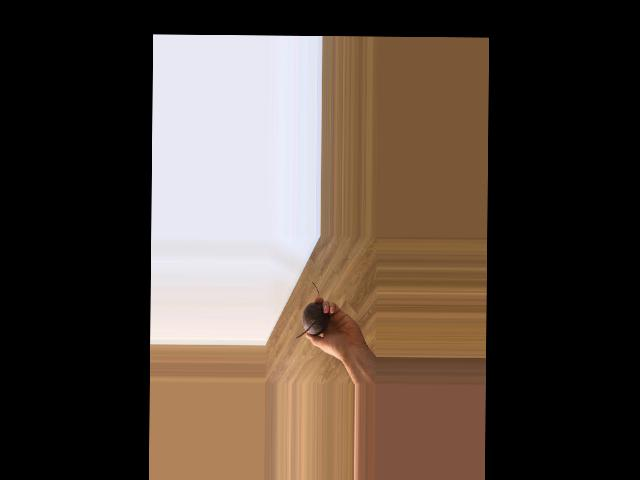beet: (296, 281, 328, 338)
